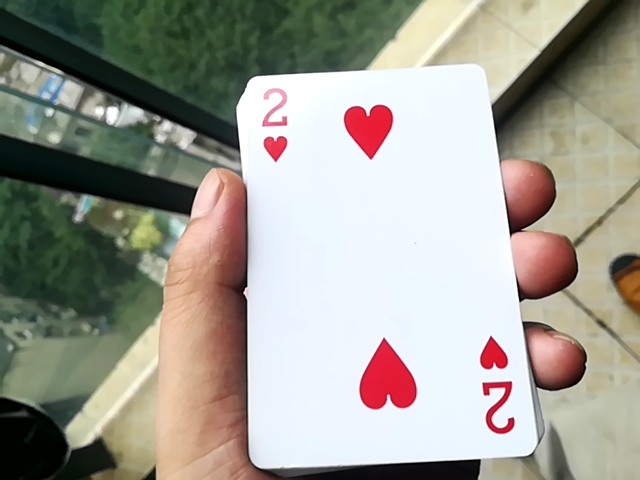hx 2: (227, 59, 528, 472)
